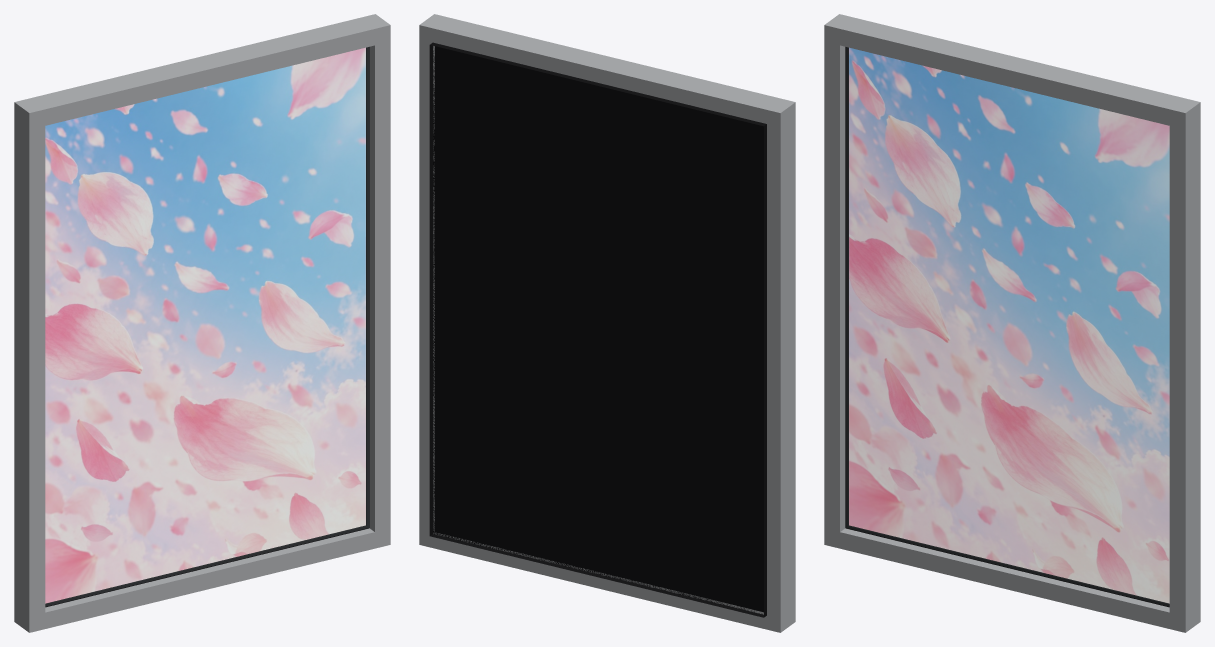
File: gteki_poster_lightbox_04.glb
3 views of the same model, side by side, from view 1: azimuth 30°, elevation 25°; view 2: azimuth 150°, elevation 25°; view 3: azimuth 330°, elevation 25° (orthographic).
Visible parts, largest first — view 1: VIS_body; view 2: VIS_body; view 3: VIS_body.
Boxes of the visible parts, bbox=[...] form: VIS_body: bbox=[14, 14, 390, 632]; VIS_body: bbox=[419, 14, 795, 632]; VIS_body: bbox=[824, 14, 1200, 632].
Size of what is drawn, in the model's own units: 0.8 by 1.1 by 0.07.
3 materials, 3 textured.
